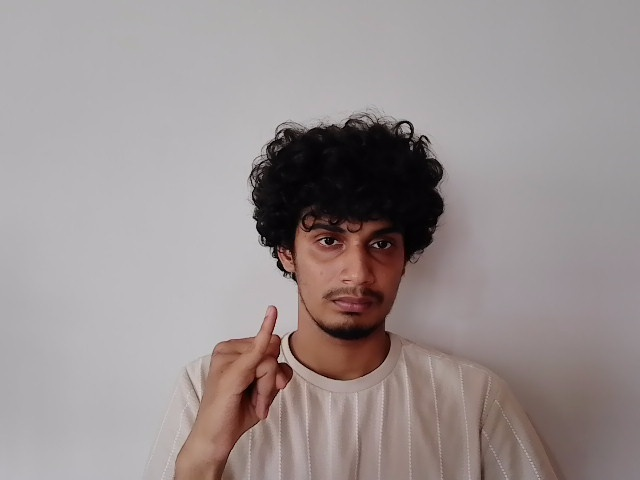bad: (194, 304, 293, 442)
